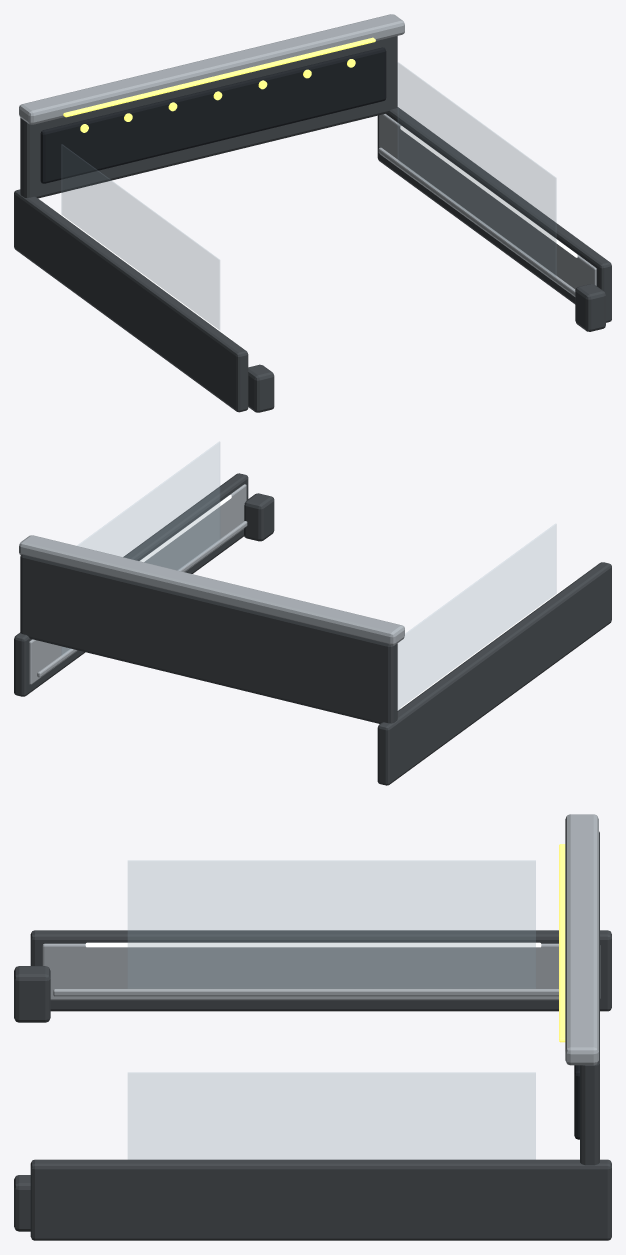
The model's file is medal-cabinet.glb.
3 renders of one model, top to bottom at view 1: azimuth 30°, elevation 25°; view 2: azimuth 150°, elevation 25°; view 3: azimuth 270°, elevation 25°, orthographic. The views are drawn at different scales.
Visible parts, largest first — view 1: BackFasciaInset, SideTower_-1, AcrylicGuard_+1, AcrylicGuard_-1, BackFascia, TopBridge, SideSilverFace_+1, SideTower_+1, TopBridgeLED, PlayfieldRail_+1, FrontPylon_+1, FrontPylon_-1 (+1 smaller); view 2: BackFascia, SideTower_-1, AcrylicGuard_-1, AcrylicGuard_+1, TopBridge, SideSilverFace_+1, SideTower_+1, FrontPylon_+1, PlayfieldRail_+1; view 3: AcrylicGuard_-1, SideTower_+1, AcrylicGuard_+1, SideSilverFace_-1, SideTower_-1, TopBridge, PlayfieldRail_-1, SideLED_-1, BackFascia, FrontPylon_-1, TopBridgeLED, FrontPylon_+1.
Boxes of the visible parts, x1,y1,x2,y2 form: BackFasciaInset: (40, 47, 386, 183); SideTower_-1: (14, 189, 248, 412); AcrylicGuard_+1: (398, 62, 556, 276); AcrylicGuard_-1: (61, 144, 219, 329); BackFascia: (20, 36, 397, 198); TopBridge: (19, 14, 404, 124); SideSilverFace_+1: (379, 114, 596, 296); SideTower_+1: (377, 107, 611, 322); TopBridgeLED: (63, 37, 375, 117); PlayfieldRail_+1: (378, 147, 575, 296); FrontPylon_+1: (575, 284, 605, 331); FrontPylon_-1: (248, 364, 274, 412); BackFascia: (20, 554, 397, 723); SideTower_-1: (377, 562, 611, 785); AcrylicGuard_-1: (398, 524, 556, 709); AcrylicGuard_+1: (61, 441, 219, 655); TopBridge: (19, 535, 404, 645); SideSilverFace_+1: (29, 484, 246, 684); SideTower_+1: (14, 473, 248, 696); FrontPylon_+1: (244, 493, 274, 541); PlayfieldRail_+1: (37, 521, 247, 677); AcrylicGuard_-1: (128, 860, 535, 988); SideTower_+1: (30, 1159, 611, 1240); AcrylicGuard_+1: (128, 1072, 535, 1159); SideSilverFace_-1: (42, 943, 600, 1000); SideTower_-1: (30, 930, 611, 1011); TopBridge: (565, 814, 598, 1065); PlayfieldRail_-1: (53, 989, 558, 996); SideLED_-1: (85, 942, 541, 947); BackFascia: (580, 831, 599, 1165); FrontPylon_-1: (14, 966, 50, 1022); TopBridgeLED: (559, 844, 565, 1042); FrontPylon_+1: (14, 1175, 30, 1231).
Bounding box in the file's own units: 10.72 × 4.07 × 11.42.
